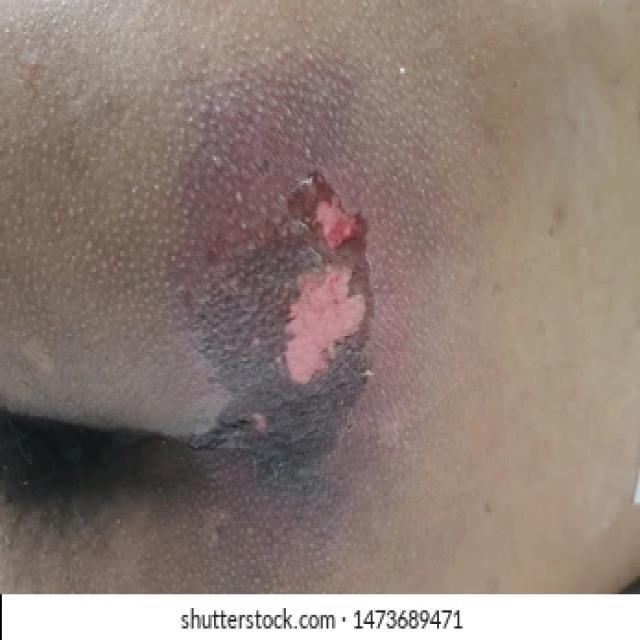stage-2: (284, 199, 366, 386)
